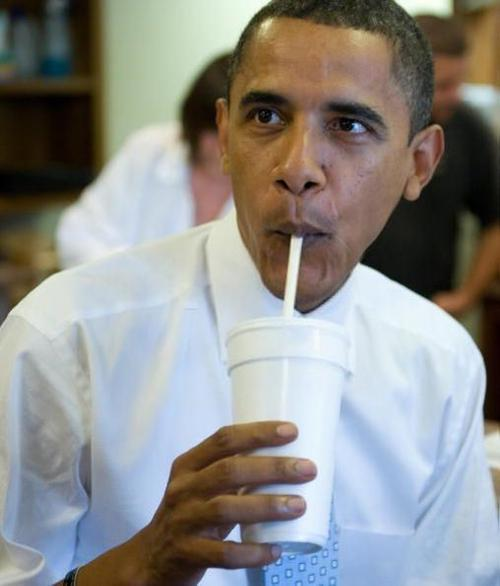person: (1, 1, 500, 582)
